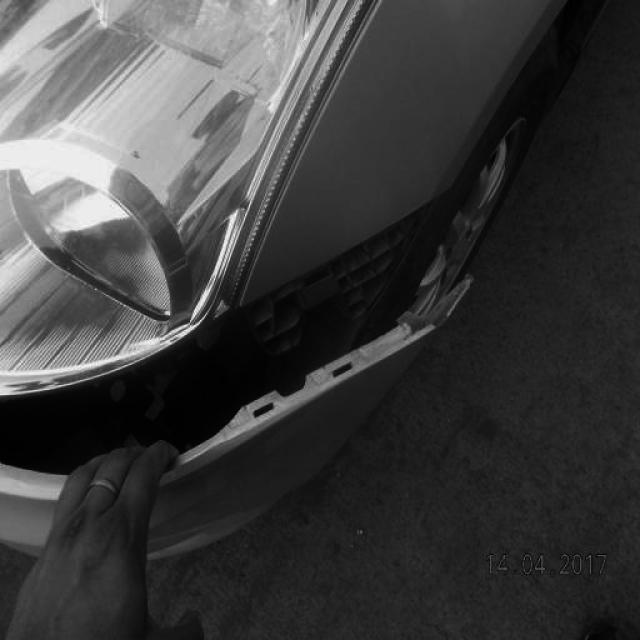car damage: (0, 193, 472, 476)
